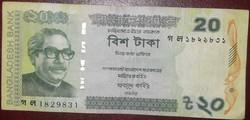20 taka: (3, 3, 246, 118)
